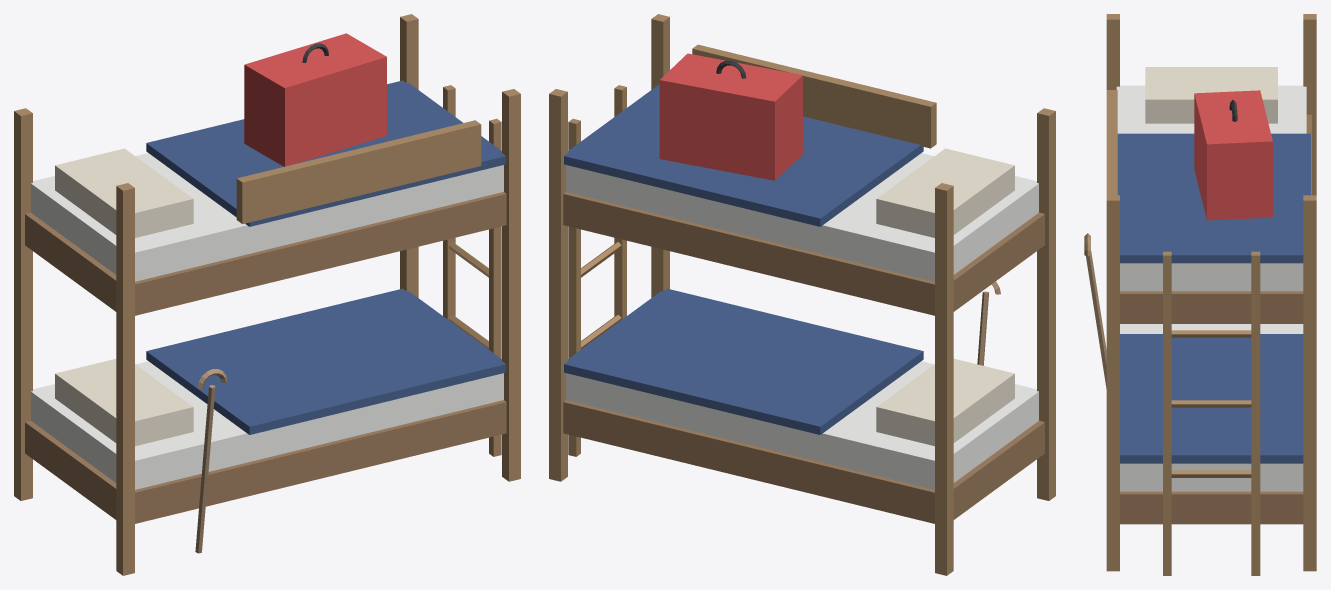
Rendered from CR_Litera.fbx.
The picture shows the model from 3 angles, left to right: view 1: azimuth 30°, elevation 25°; view 2: azimuth 150°, elevation 25°; view 3: azimuth 270°, elevation 25°; orthographic projection. The views are drawn at different scales.
Parts seen in each view (by area): view 1: CR_Litera; view 2: CR_Litera; view 3: CR_Litera.
Part boxes in pixels (left/top/right/bottom): CR_Litera: left=14, top=14, right=520, bottom=575; CR_Litera: left=549, top=14, right=1055, bottom=575; CR_Litera: left=1084, top=14, right=1316, bottom=575.
Size of the model in its own units: 2.05 by 2.02 by 1.05.
